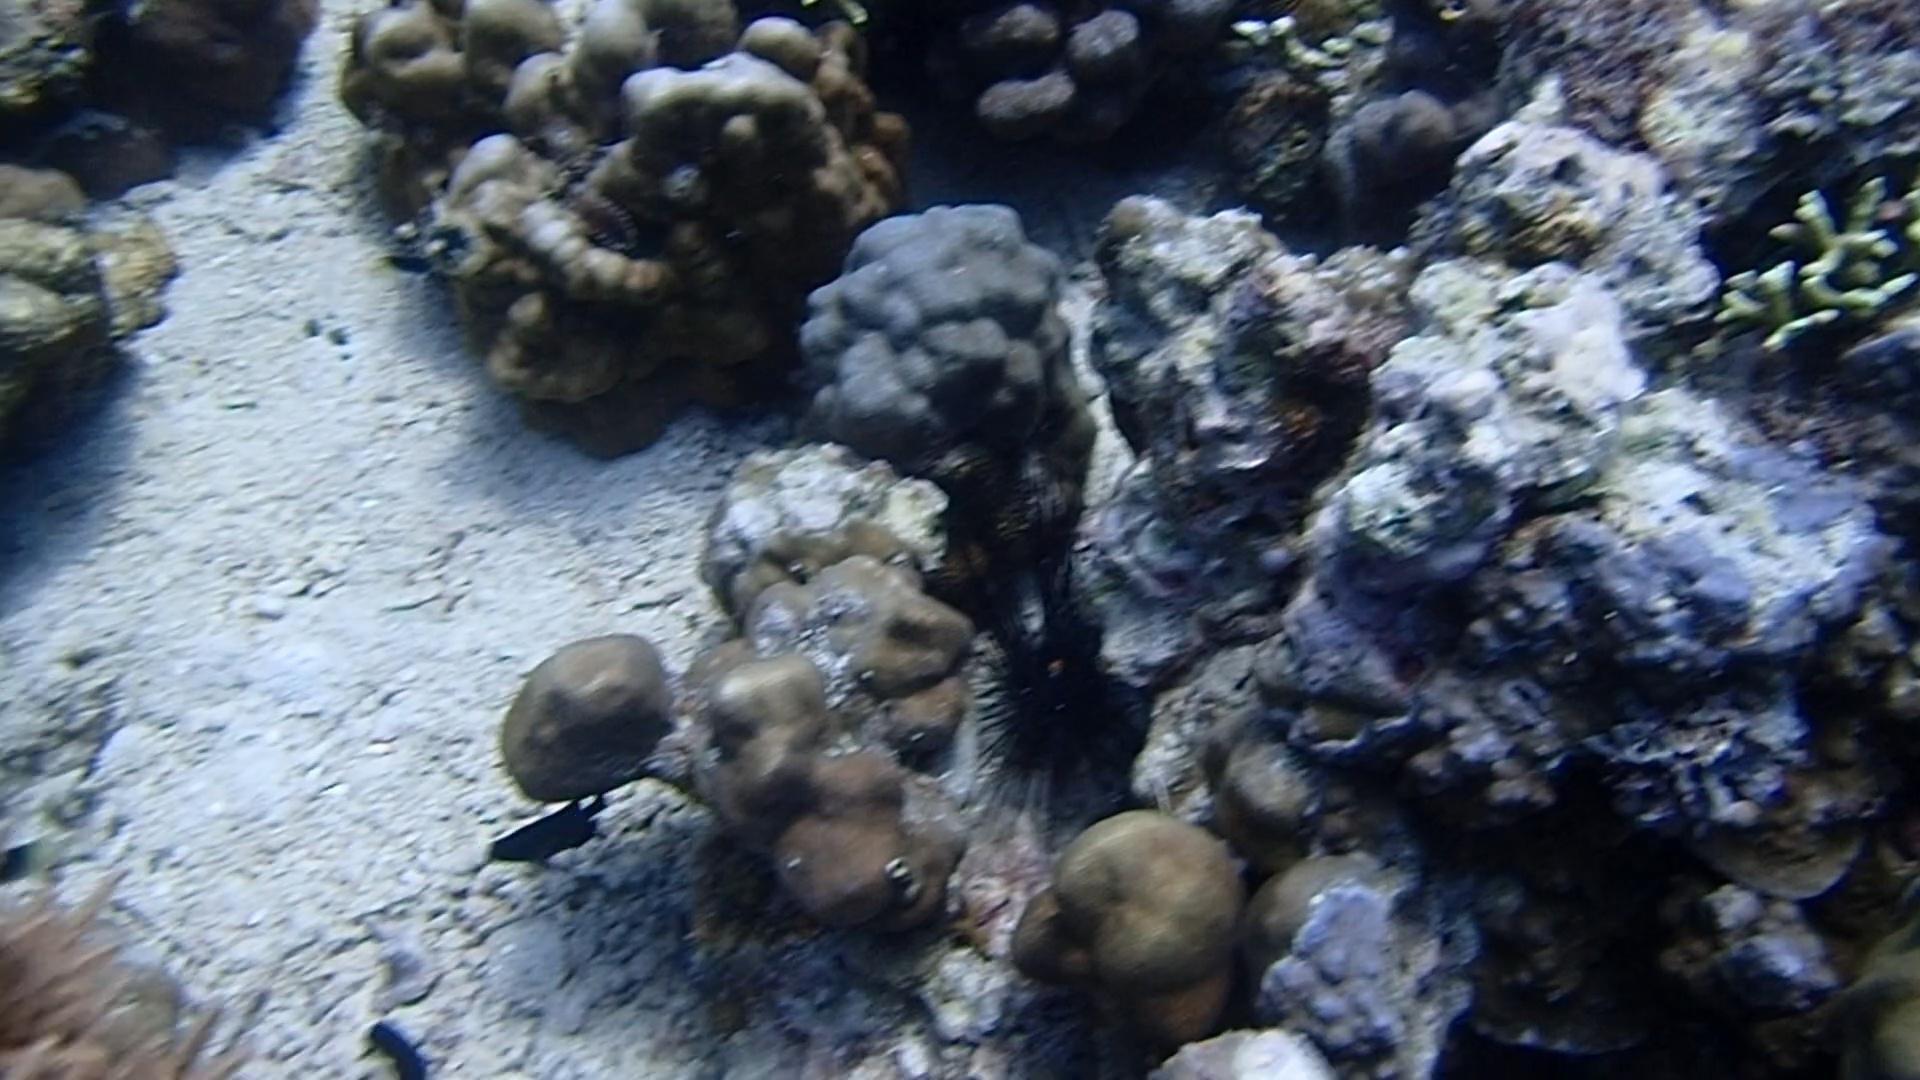Dark Fish: (472, 790, 618, 884), (351, 1005, 446, 1080)
Yellow Tail: (0, 825, 98, 884), (361, 239, 442, 286)
